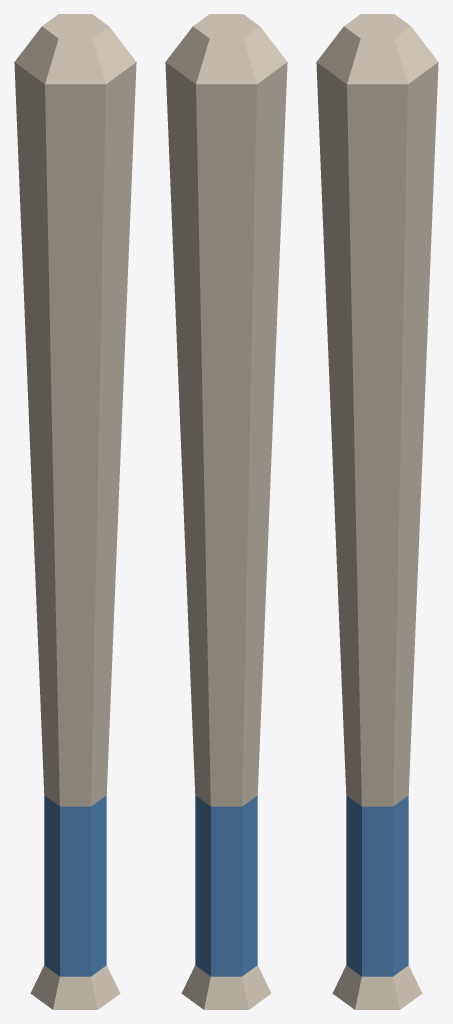
The model's file is BaseballBat.fbx.
3 renders of one model, left to right at view 1: azimuth 30°, elevation 25°; view 2: azimuth 210°, elevation 25°; view 3: azimuth 330°, elevation 25°, orthographic.
Parts seen in each view (by area): view 1: BaseballBat; view 2: BaseballBat; view 3: BaseballBat.
Boxes of the visible parts, left/top/right/bottom form: BaseballBat: left=14, top=14, right=136, bottom=1009; BaseballBat: left=165, top=14, right=287, bottom=1009; BaseballBat: left=316, top=14, right=438, bottom=1009.
Bounding box in the file's own units: 0.0677 × 0.6826 × 0.0781.
